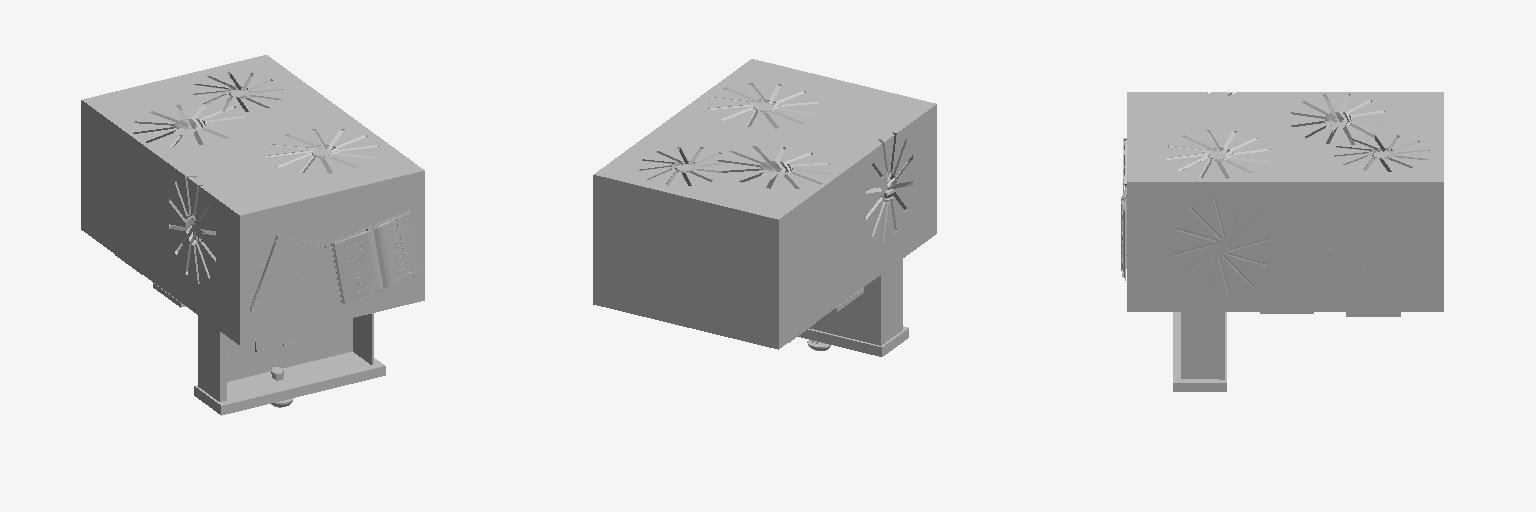
Rendered from drawer.obj.
3 renders of one model, left to right at view 1: azimuth 30°, elevation 25°; view 2: azimuth 150°, elevation 25°; view 3: azimuth 270°, elevation 25°, orthographic.
Visible parts, largest first — view 1: obj_0; view 2: obj_0; view 3: obj_0.
Part boxes in pixels (left/top/right/bottom): obj_0: left=81, top=55, right=424, bottom=415; obj_0: left=593, top=59, right=936, bottom=356; obj_0: left=1121, top=92, right=1443, bottom=391.
Size of the model in its own units: 79 by 96.89 by 121.